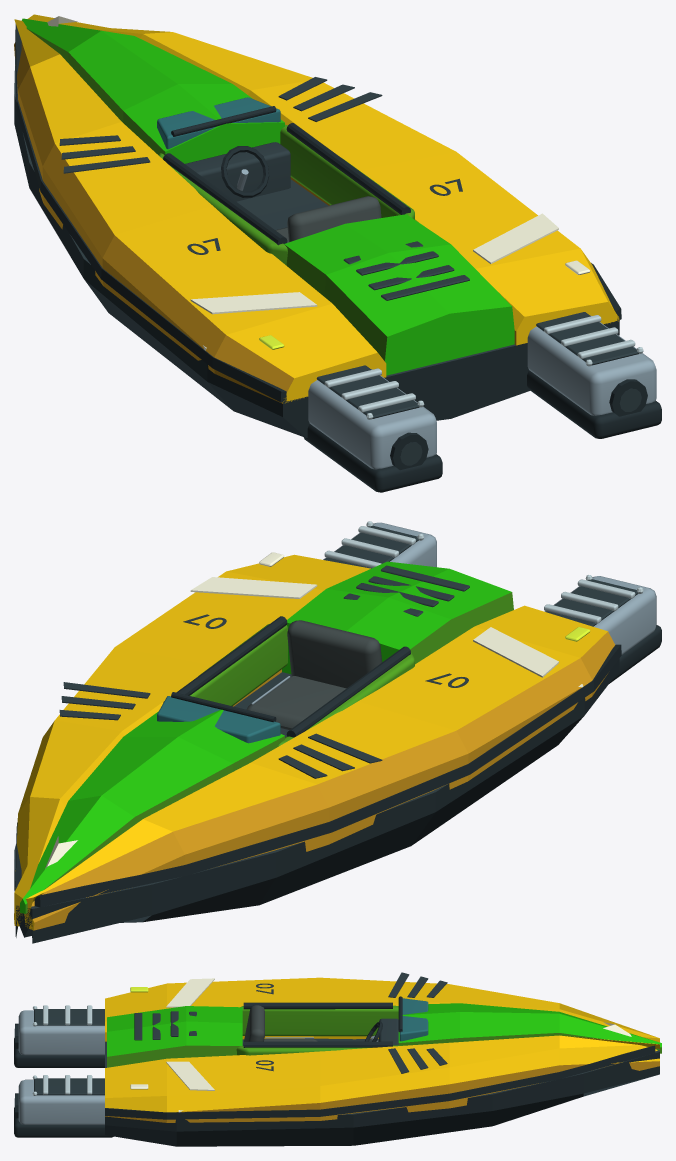
The model's file is sunfish-07-hydroplane.glb.
3 renders of one model, top to bottom at view 1: azimuth 30°, elevation 25°; view 2: azimuth 150°, elevation 25°; view 3: azimuth 270°, elevation 25°, orthographic. The views are drawn at different scales.
Parts seen in each view (by area): view 1: PORT sculpted yellow sponson, STARBOARD sculpted yellow sponson, Lime rear engine cowling, Chined dark underbody, Raised lime foredeck, STARBOARD separate stern drive casing, PORT separate stern drive casing, PORT continuous rubber rub rail, STARBOARD cockpit coaming, Cockpit front console, PORT black foot under stern drive, STARBOARD black foot under stern drive (+13 smaller); view 2: PORT sculpted yellow sponson, STARBOARD sculpted yellow sponson, Chined dark underbody, Raised lime foredeck, Lime rear engine cowling, PORT continuous rubber rub rail, Low cockpit seat back, STARBOARD cockpit coaming, Deep bucket seat cushion, PORT separate stern drive casing, Small angled smoke windscreen, STARBOARD ivory rear speed chevron (+11 smaller); view 3: STARBOARD sculpted yellow sponson, Chined dark underbody, PORT sculpted yellow sponson, Lime rear engine cowling, Raised lime foredeck, STARBOARD continuous rubber rub rail, PORT cockpit coaming, PORT separate stern drive casing, STARBOARD separate stern drive casing, STARBOARD black foot under stern drive, PORT black foot under stern drive, PORT cockpit lip (+9 smaller).
Part boxes in pixels (x1=…): PORT sculpted yellow sponson: x1=14, y1=19, x2=386, y2=403; STARBOARD sculpted yellow sponson: x1=27, y1=14, x2=619, y2=345; Lime rear engine cowling: x1=284, y1=214, x2=514, y2=375; Chined dark underbody: x1=14, y1=50, x2=619, y2=437; Raised lime foredeck: x1=22, y1=18, x2=284, y2=163; STARBOARD separate stern drive casing: x1=527, y1=315, x2=656, y2=415; PORT separate stern drive casing: x1=308, y1=369, x2=436, y2=469; PORT continuous rubber rub rail: x1=15, y1=24, x2=286, y2=402; STARBOARD cockpit coaming: x1=280, y1=125, x2=414, y2=219; Cockpit front console: x1=185, y1=142, x2=290, y2=201; PORT black foot under stern drive: x1=304, y1=423, x2=442, y2=492; STARBOARD black foot under stern drive: x1=527, y1=370, x2=661, y2=438; PORT sculpted yellow sponson: x1=24, y1=605, x2=614, y2=930; STARBOARD sculpted yellow sponson: x1=14, y1=554, x2=370, y2=926; Chined dark underbody: x1=14, y1=658, x2=619, y2=943; Raised lime foredeck: x1=20, y1=709, x2=284, y2=913; Lime rear engine cowling: x1=282, y1=561, x2=513, y2=673; PORT continuous rubber rub rail: x1=34, y1=644, x2=621, y2=907; Low cockpit seat back: x1=287, y1=620, x2=382, y2=688; STARBOARD cockpit coaming: x1=190, y1=624, x2=287, y2=706; Deep bucket seat cushion: x1=246, y1=676, x2=346, y2=729; PORT separate stern drive casing: x1=544, y1=576, x2=656, y2=654; Small angled smoke windscreen: x1=157, y1=696, x2=280, y2=743; STARBOARD ivory rear speed chevron: x1=190, y1=577, x2=317, y2=598; STARBOARD sculpted yellow sponson: x1=105, y1=1035, x2=659, y2=1122; Chined dark underbody: x1=105, y1=1038, x2=659, y2=1146; PORT sculpted yellow sponson: x1=105, y1=977, x2=659, y2=1042; Lime rear engine cowling: x1=107, y1=1006, x2=242, y2=1067; Raised lime foredeck: x1=398, y1=1003, x2=661, y2=1053; STARBOARD continuous rubber rub rail: x1=105, y1=1045, x2=655, y2=1119; PORT cockpit coaming: x1=240, y1=1005, x2=398, y2=1036; PORT separate stern drive casing: x1=18, y1=1010, x2=104, y2=1055; STARBOARD separate stern drive casing: x1=18, y1=1079, x2=104, y2=1124; STARBOARD black foot under stern drive: x1=14, y1=1107, x2=113, y2=1137; PORT black foot under stern drive: x1=14, y1=1038, x2=104, y2=1067; PORT cockpit lip: x1=243, y1=1002, x2=392, y2=1009.
Size of the model in its own units: 2.99 by 1.11 by 6.77.
